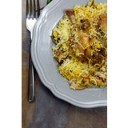briyani: (57, 1, 107, 88)
